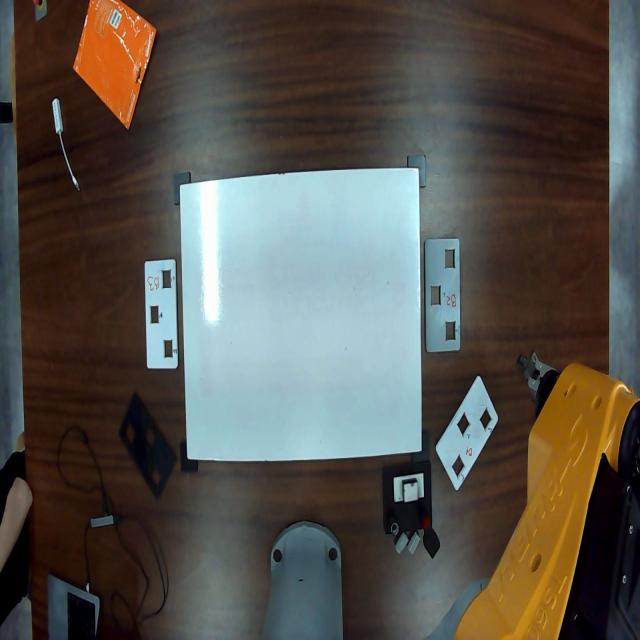default_frame: (180, 167, 422, 461)
